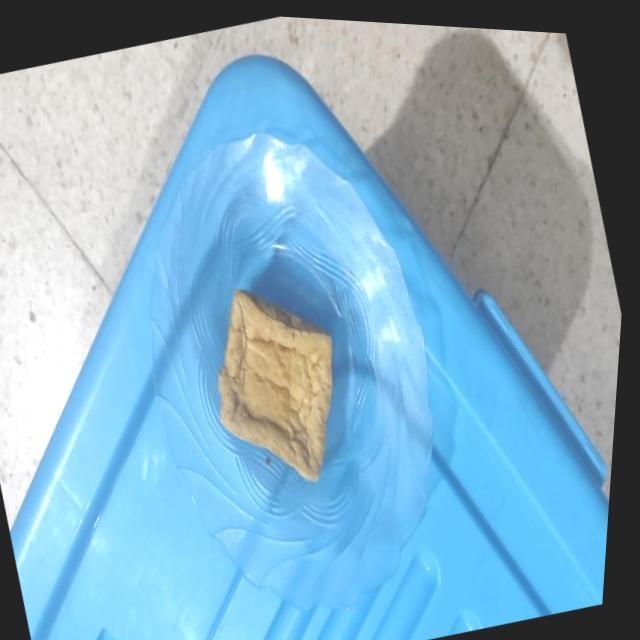tahu_goreng: (218, 288, 332, 481)
